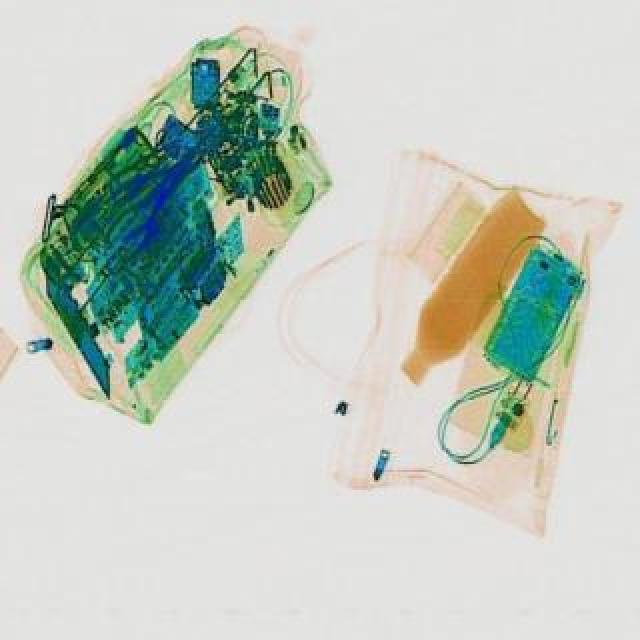wrench: (94, 134, 220, 250)
